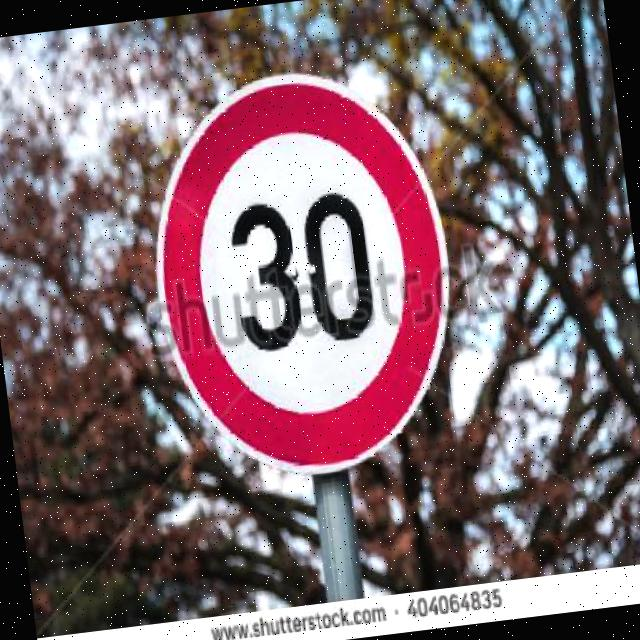Ograniczenie predkosci do 30: (146, 61, 470, 492)
